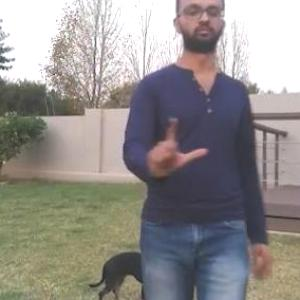land_hand: (142, 112, 206, 181)
